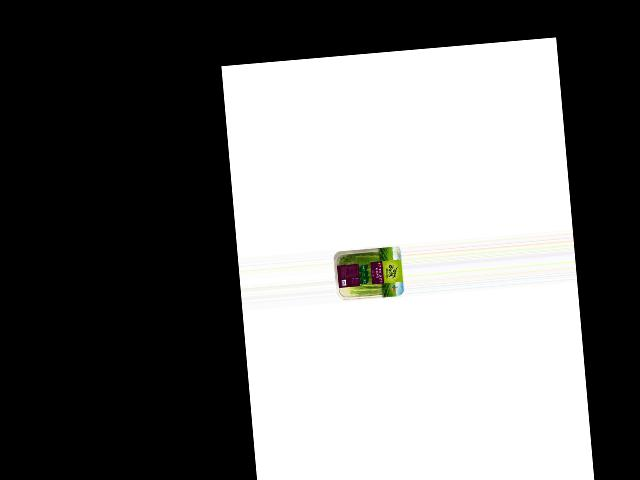lettuce: (332, 246, 399, 302)
